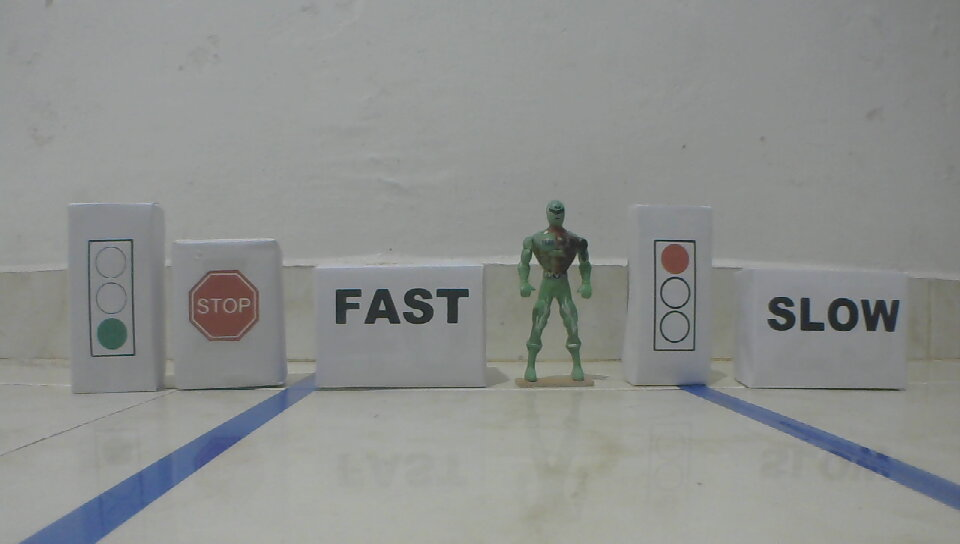Fast: (333, 286, 472, 327)
Green Traffic Light: (84, 237, 138, 360)
Person: (514, 200, 597, 387)
Red Traffic Light: (649, 237, 700, 356)
Slow: (766, 292, 904, 335)
Stop Sign: (187, 269, 261, 343)
